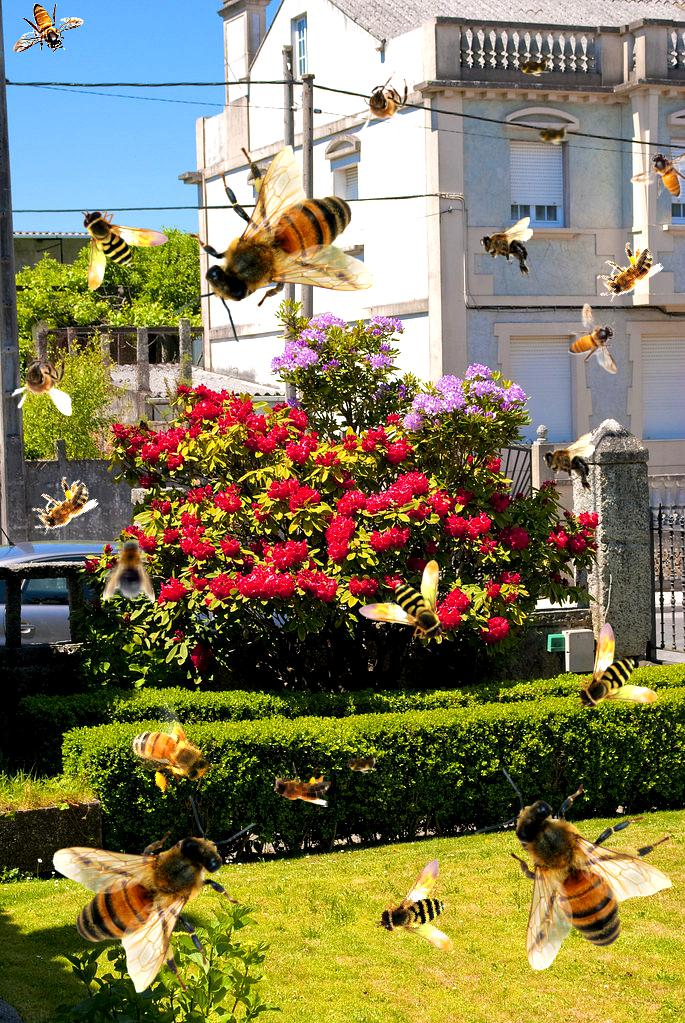Bee: (172, 145, 376, 344), (52, 794, 256, 993), (473, 767, 672, 971), (114, 694, 226, 811), (372, 846, 484, 960), (81, 208, 169, 290), (358, 560, 446, 642), (576, 622, 658, 710), (586, 234, 666, 313), (21, 468, 101, 547), (11, 346, 72, 416), (354, 71, 415, 141), (568, 303, 618, 374), (13, 3, 84, 53), (103, 535, 155, 603), (542, 433, 595, 495), (480, 217, 533, 279), (265, 762, 331, 807), (629, 147, 685, 200), (513, 55, 553, 77), (341, 752, 381, 774), (532, 123, 572, 145)
